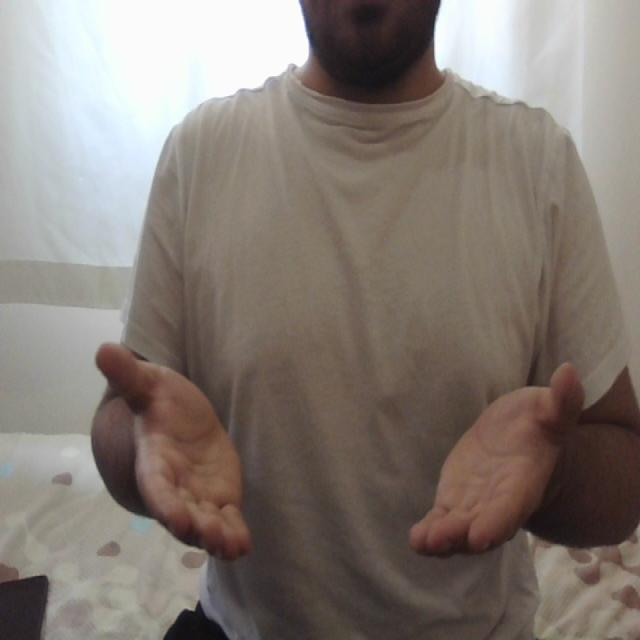Evet: (91, 337, 589, 563)
